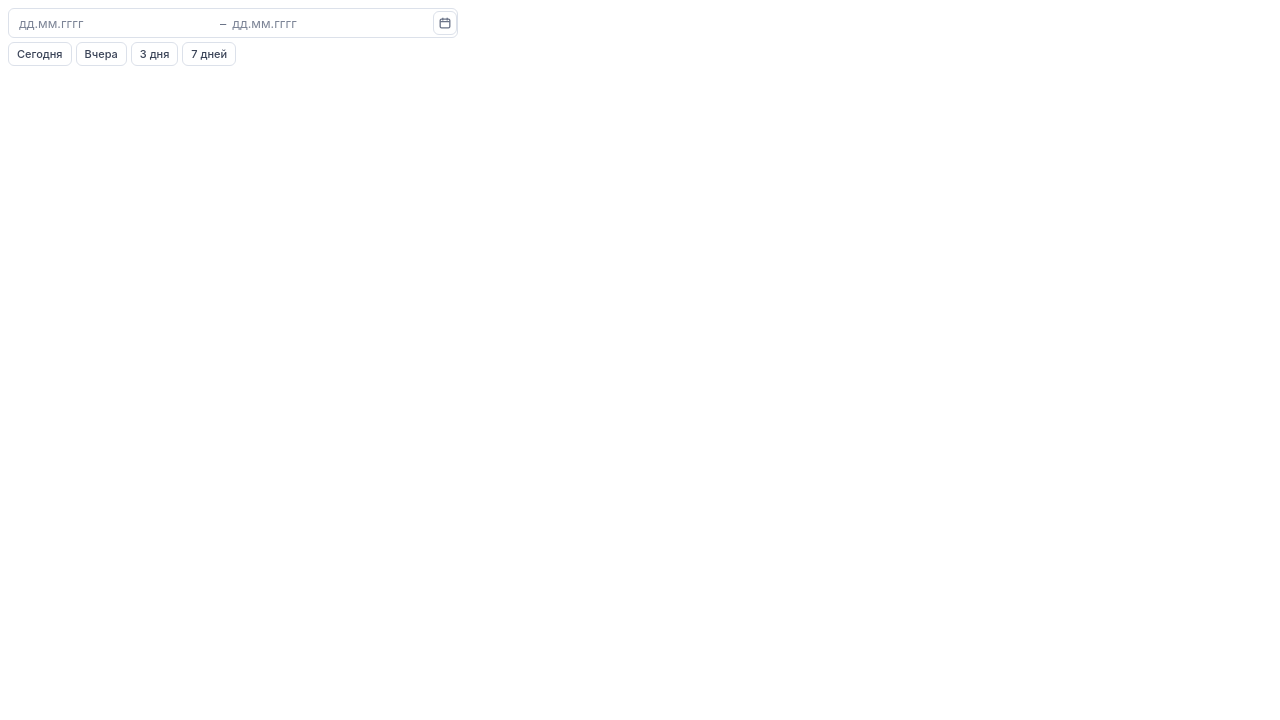
Test: DateRange › пресет в поповере ставит период и закрывает
Step 1. Click the button named "Выбрать период" → (445, 23), box [433,11,457,35]
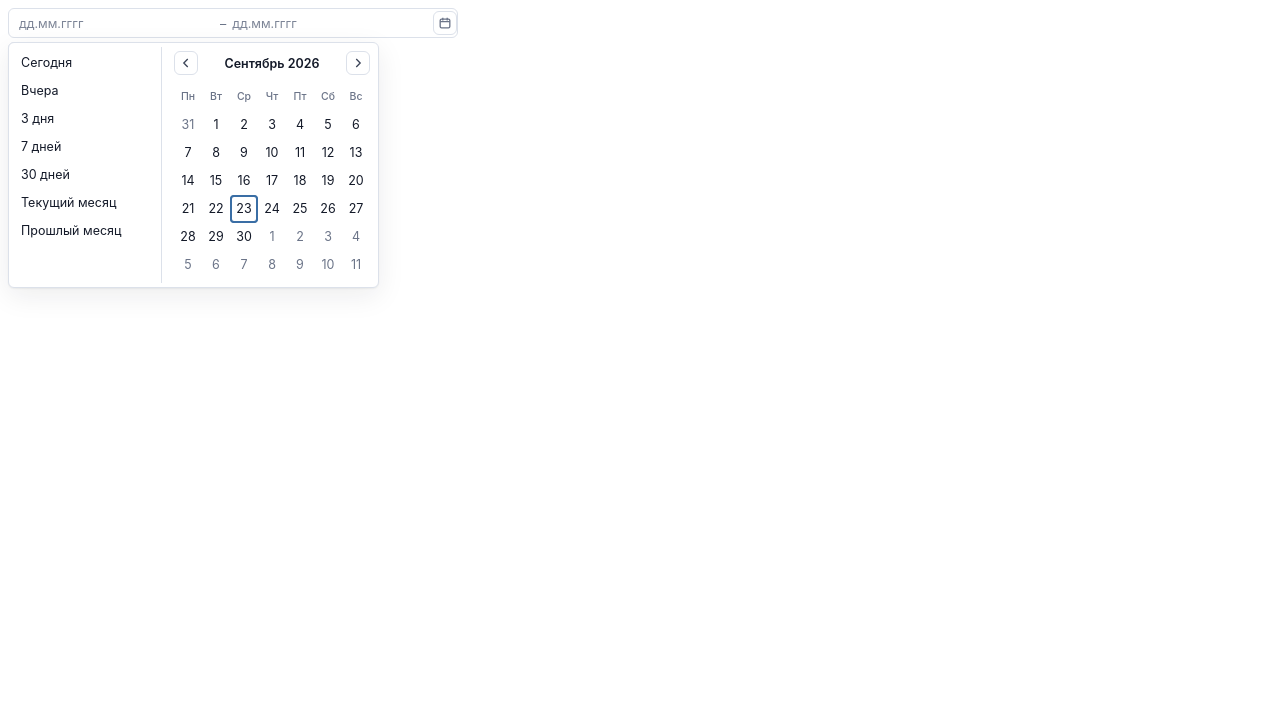
Step 2. Click the button "Прошлый месяц" → (83, 231), box [13,219,153,243]
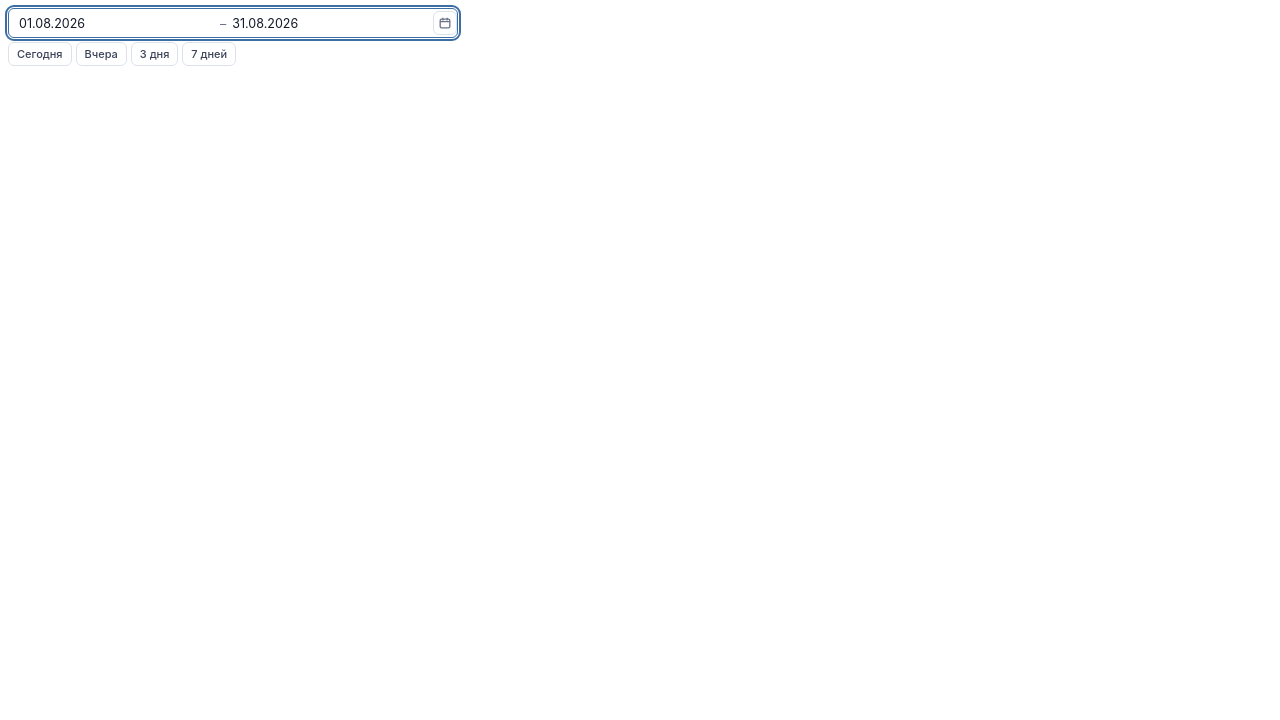
Result: the dialog is gone
